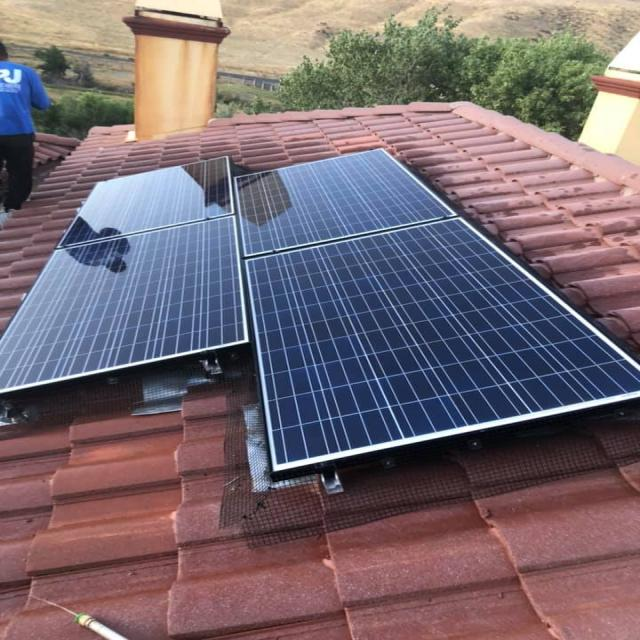clean-solar-panel: (3, 150, 638, 474)
